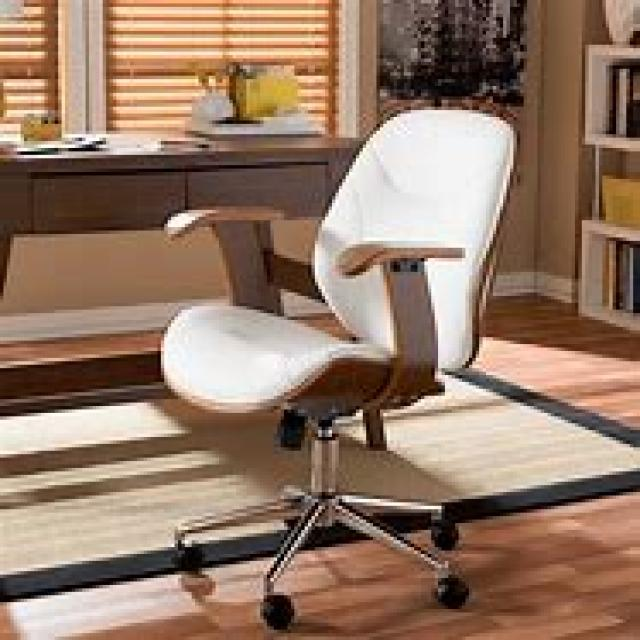chair: (157, 103, 517, 626)
